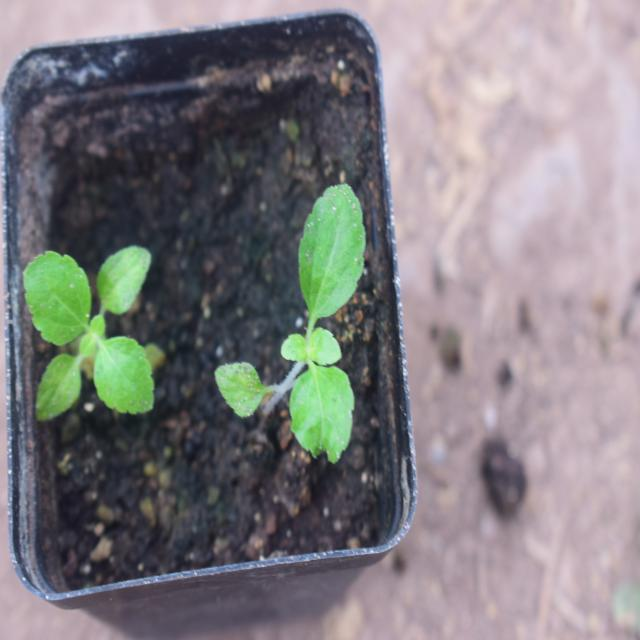billygoat_weed: (1, 208, 156, 441), (253, 171, 372, 456)
